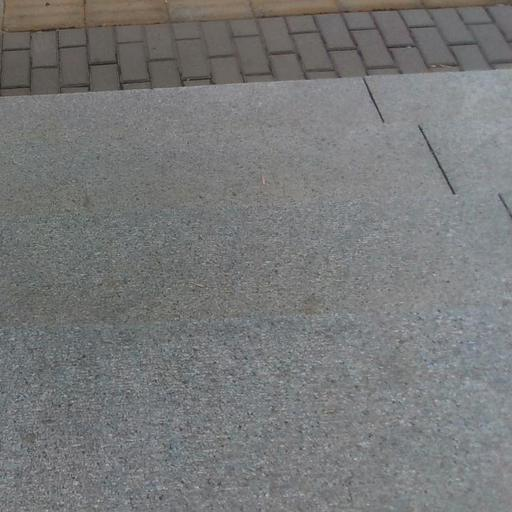stairs: (0, 71, 511, 511)
